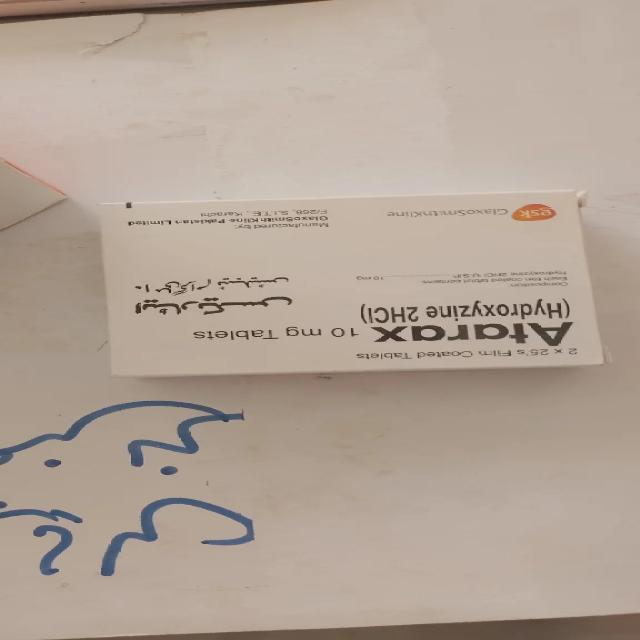drug-name: (372, 321, 574, 347)
